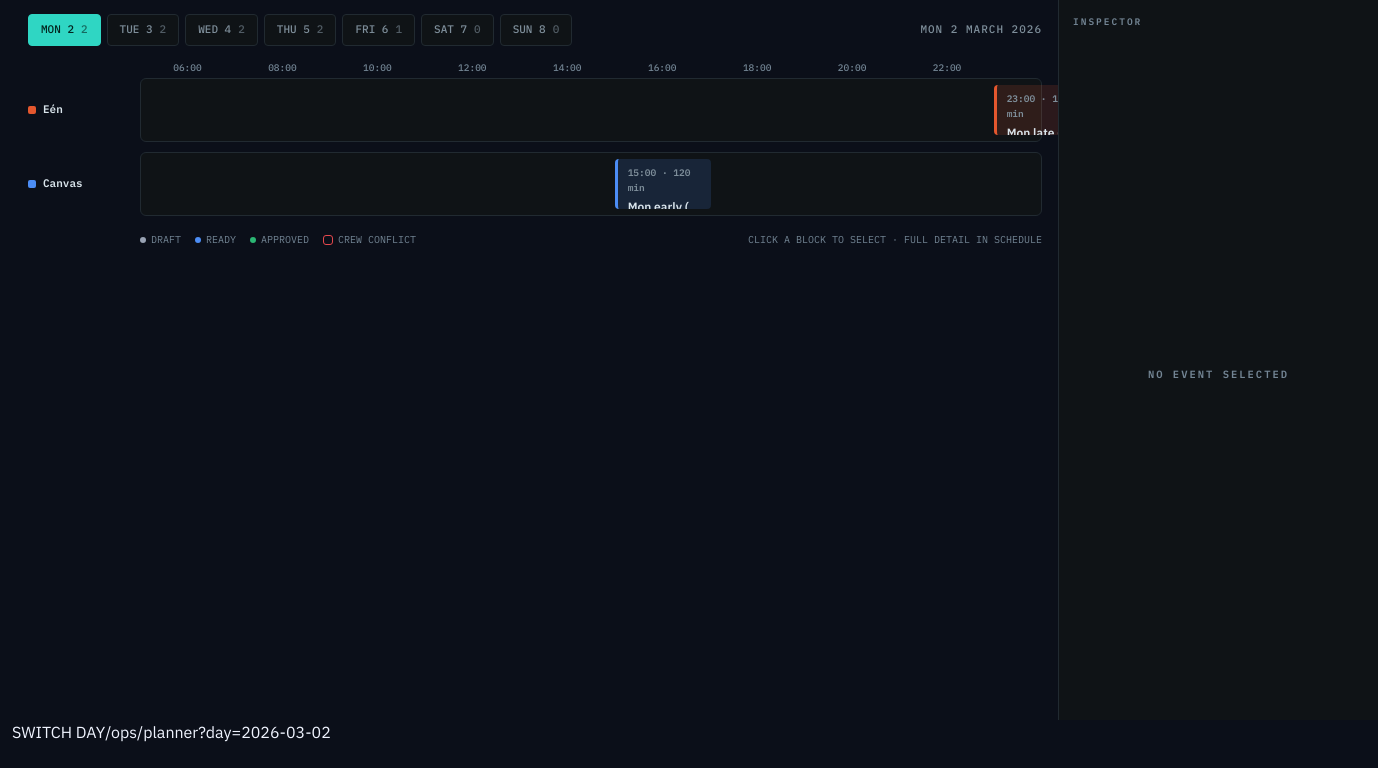
selection + inspector (ADR-014 shared selection; EventInspector v1 embed) › block click sets ?event= (preserving ?day=), marks the block selected, inspector updates
The image size is (1378, 768).
Step 1. Click the button with aria-label "Mon early (EXPIRING, crew OK, API-shaped ISO datetime) · 15:" → coordinates (663, 184), box [615,159,711,209]
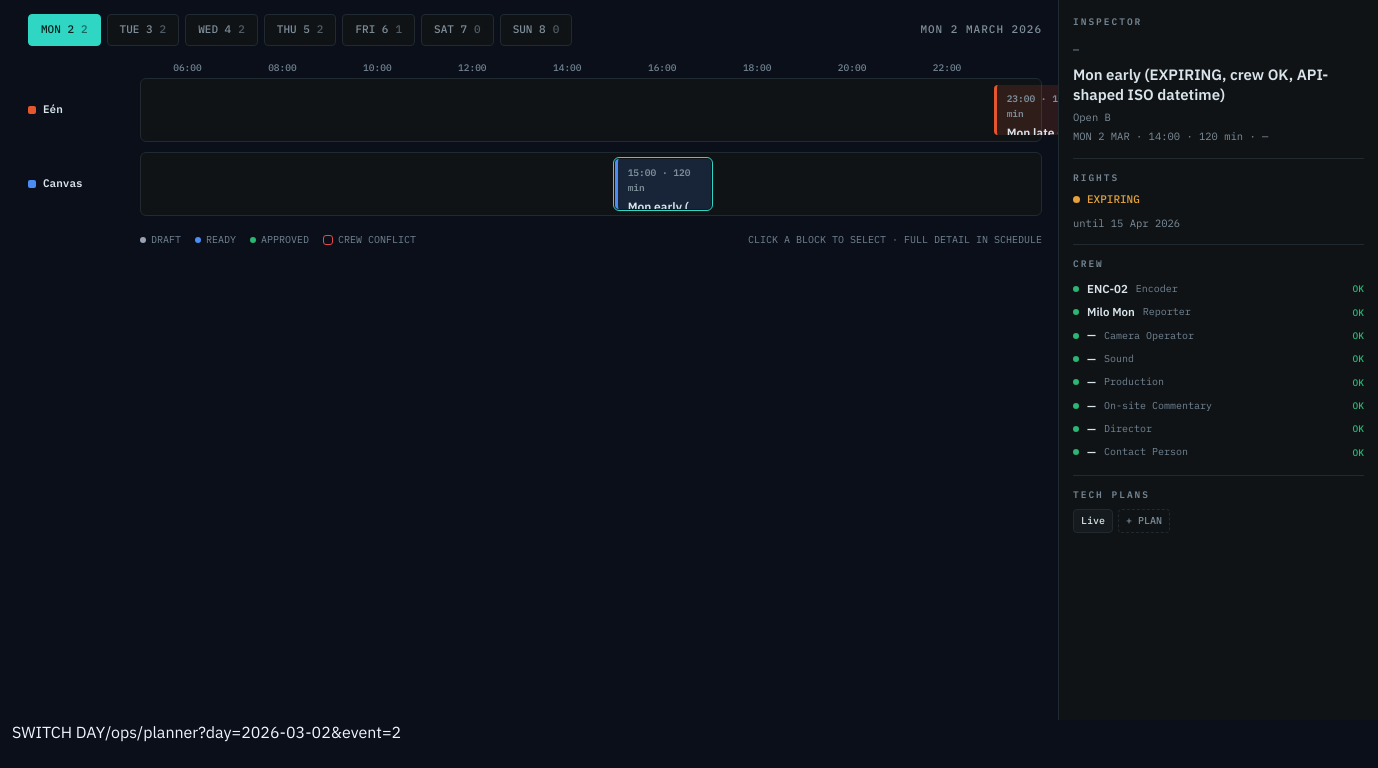
Expected: the text with test id "location" reads "/ops/planner?day=2026-03-02&event=2", [105,722,401,742]
Expected: the text with test id "ops-inspector-title" shows "Mon early", [1073,65,1328,104]
